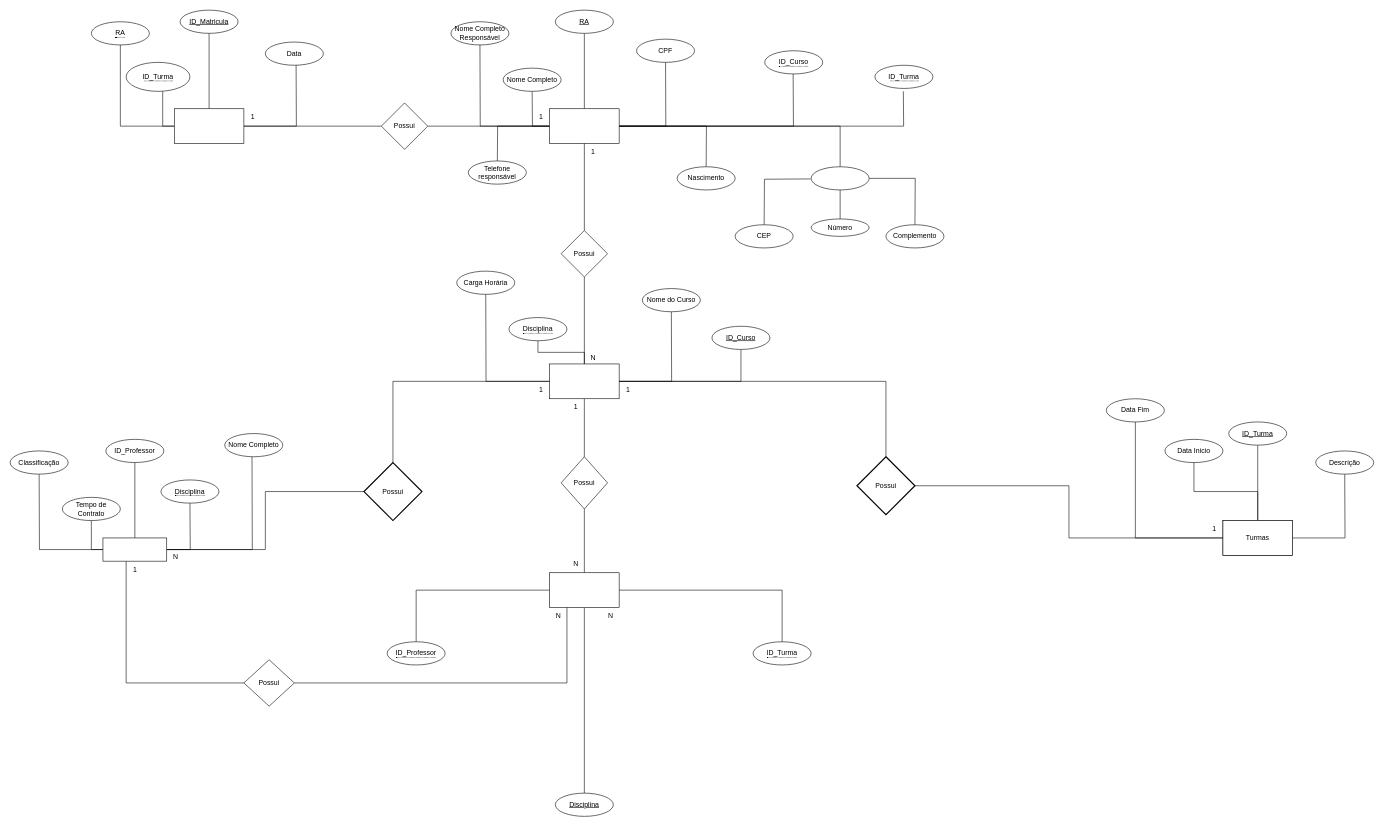
The diagram is 1384 pixels wide and 827 high, and some of its shapes have lost their labels. The centre of each missing label's shape, as x and y in pixels:
Alunos: pixel 584 126
Cursos: pixel 584 381
Disciplinas: pixel 584 590
Endereço: pixel 840 178
Matricula: pixel 209 126
Professores: pixel 134 549
